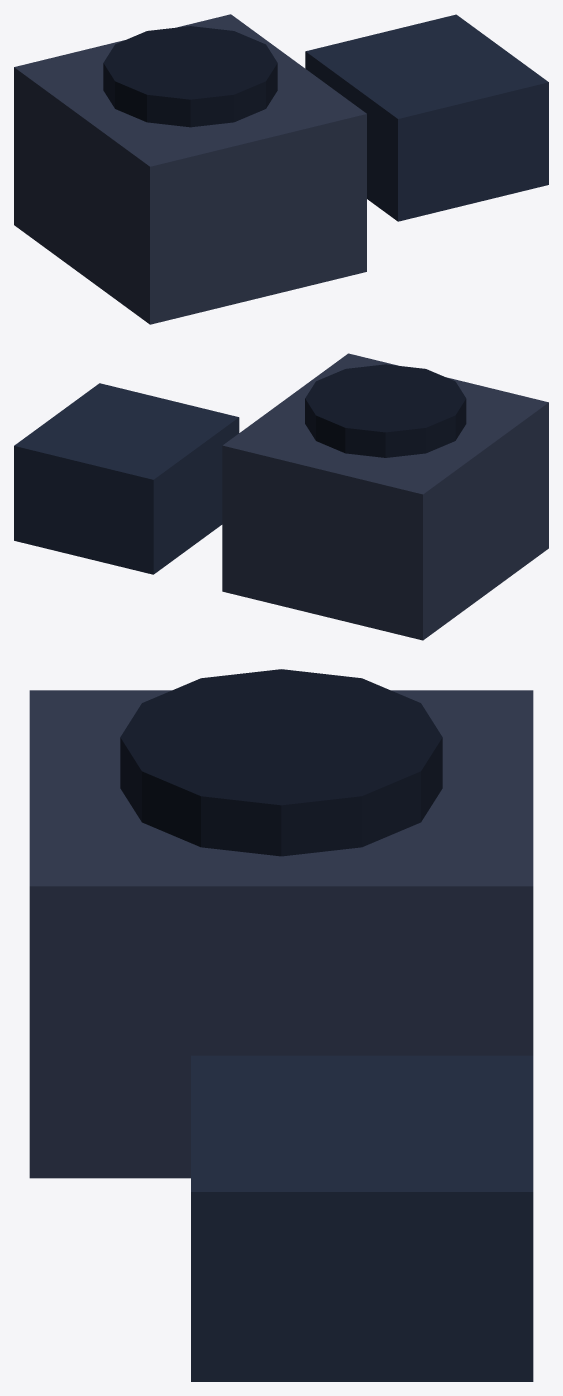
The model's file is Neon_RooftopEquipment_Simple.glb.
The picture shows the model from 3 angles, top to bottom: view 1: azimuth 30°, elevation 25°; view 2: azimuth 150°, elevation 25°; view 3: azimuth 270°, elevation 25°; orthographic projection. The views are drawn at different scales.
Visible parts, largest first — view 1: Neon_RooftopEquipment_Simple; view 2: Neon_RooftopEquipment_Simple; view 3: Neon_RooftopEquipment_Simple.
Boxes of the visible parts, x1,y1,x2,y2 form: Neon_RooftopEquipment_Simple: (14,14,548,324); Neon_RooftopEquipment_Simple: (14,353,548,640); Neon_RooftopEquipment_Simple: (29,669,533,1381).
Size of the model in its own units: 2.34 by 0.94 by 1.25.
